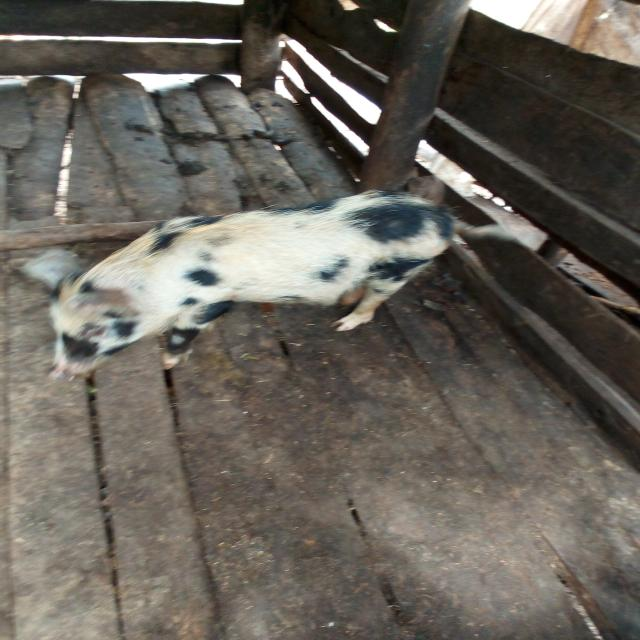pig: (4, 152, 569, 423)
